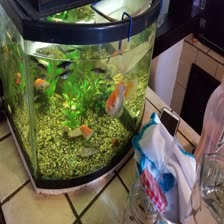Cuezo: (101, 76, 135, 119)
Guppy: (53, 57, 73, 70), (89, 62, 110, 74), (53, 68, 75, 79)
Plano: (78, 120, 93, 139), (32, 75, 48, 90)
